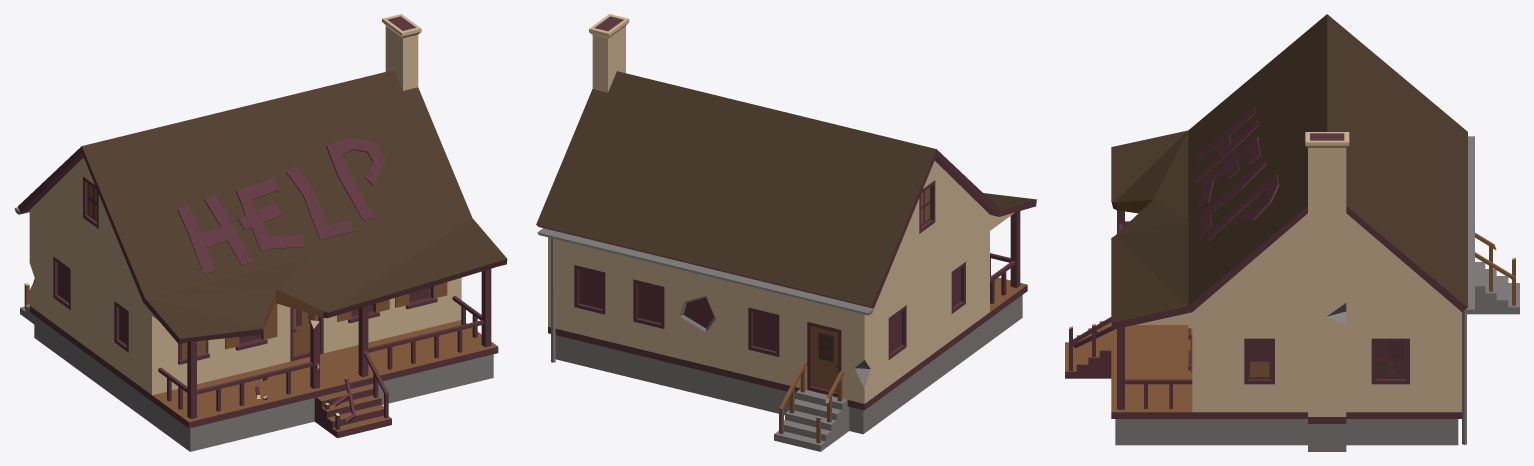
The model's file is building-house-family-small-apocalypse-a.fbx.
3 renders of one model, left to right at view 1: azimuth 30°, elevation 25°; view 2: azimuth 150°, elevation 25°; view 3: azimuth 270°, elevation 25°, orthographic. The views are drawn at different scales.
Visible parts, largest first — view 1: building-house-family-small-apocalypse-a; view 2: building-house-family-small-apocalypse-a; view 3: building-house-family-small-apocalypse-a.
Part boxes in pixels (<box>): building-house-family-small-apocalypse-a: <box>14,14,507,451</box>; building-house-family-small-apocalypse-a: <box>536,14,1036,451</box>; building-house-family-small-apocalypse-a: <box>1065,14,1519,451</box>.
Bounding box in the file's own units: 10.87 × 8.9 × 11.8.
